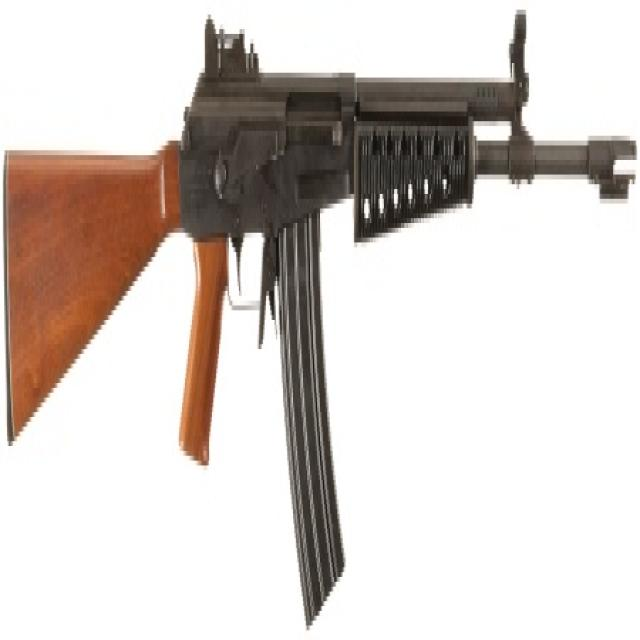rifle: (1, 10, 639, 640)
